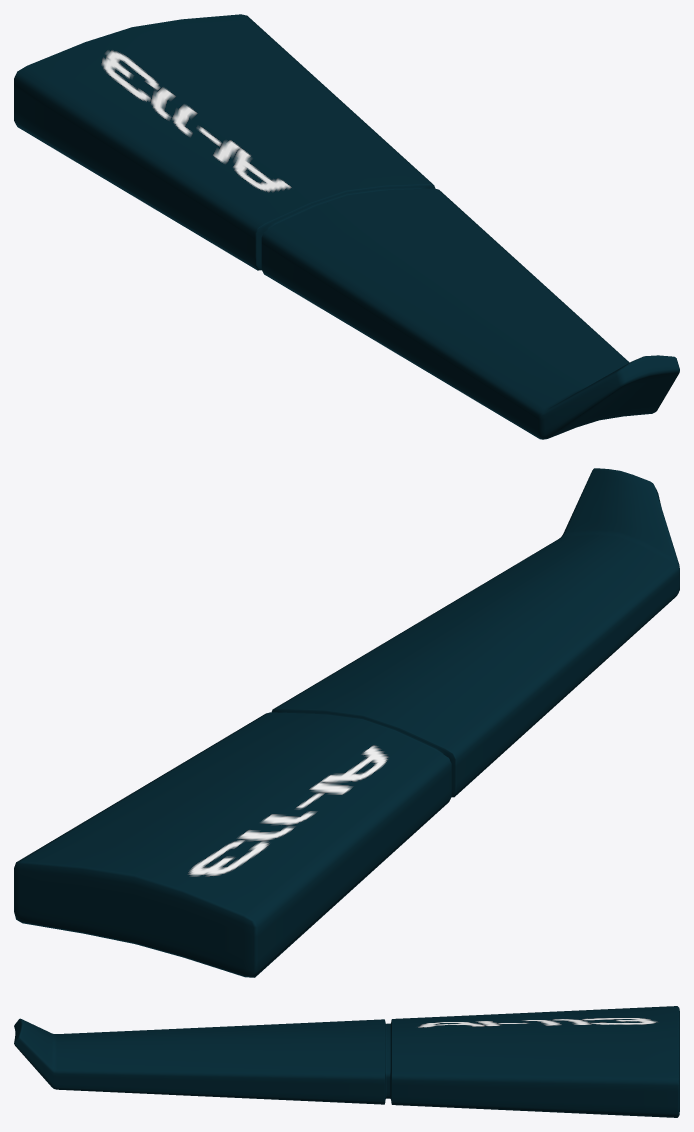
Rendered from aircraftWing.fbx.
3 renders of one model, top to bottom at view 1: azimuth 30°, elevation 25°; view 2: azimuth 150°, elevation 25°; view 3: azimuth 270°, elevation 25°, orthographic. The views are drawn at different scales.
Parts seen in each view (by area): view 1: pCube1; view 2: pCube1; view 3: pCube1.
Part boxes in pixels (x1=…): pCube1: x1=14, y1=14, x2=679, y2=439; pCube1: x1=14, y1=468, x2=679, y2=977; pCube1: x1=14, y1=1006, x2=679, y2=1117.
Size of the model in its own units: 2.07 by 0.8252 by 7.6.
1 material, 1 textured.
